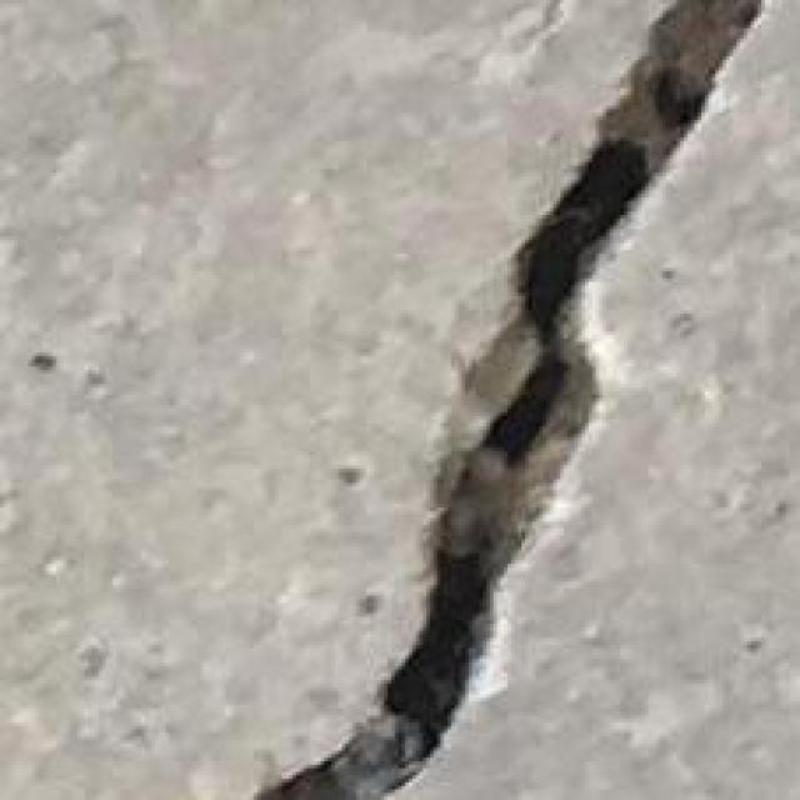pothole: (259, 0, 760, 799)
